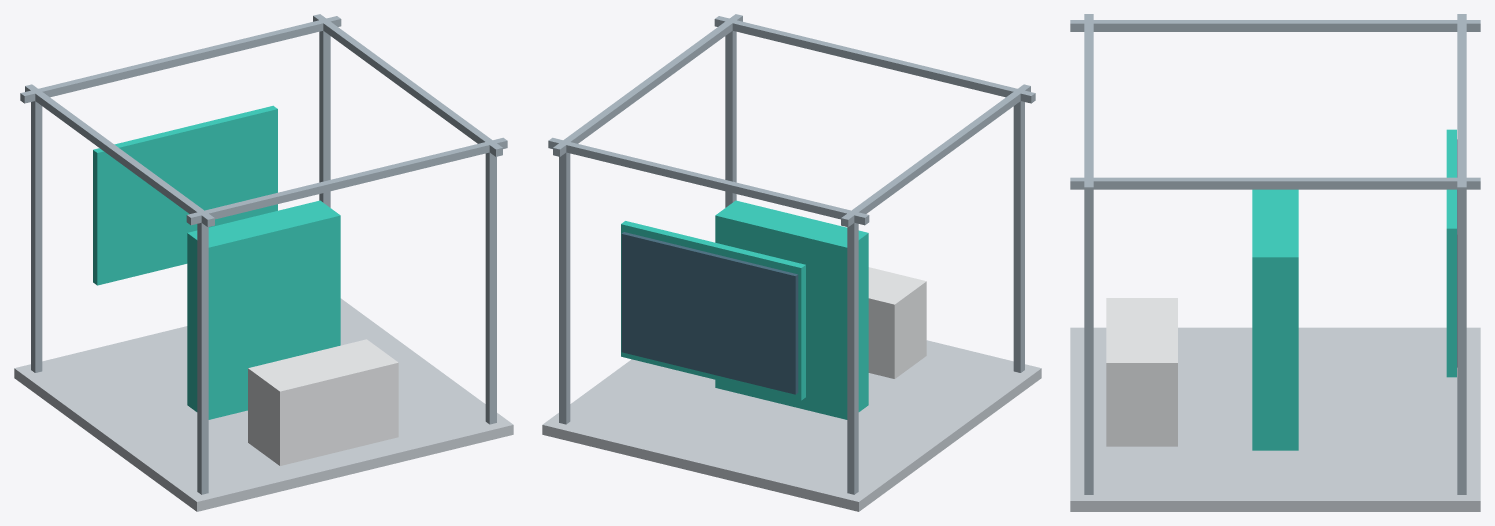
3 views of the same model, side by side, from view 1: azimuth 30°, elevation 25°; view 2: azimuth 150°, elevation 25°; view 3: azimuth 270°, elevation 25° (orthographic). The views are drawn at different scales.
Visible parts, largest first — view 1: Exhibition Booth Concept; view 2: Exhibition Booth Concept; view 3: Exhibition Booth Concept.
Part boxes in pixels (x1,y1,x2,y2): Exhibition Booth Concept: [14, 14, 513, 511]; Exhibition Booth Concept: [542, 14, 1041, 511]; Exhibition Booth Concept: [1070, 14, 1480, 511].
Bounding box in the file's own units: 4 × 3.49 × 4.
